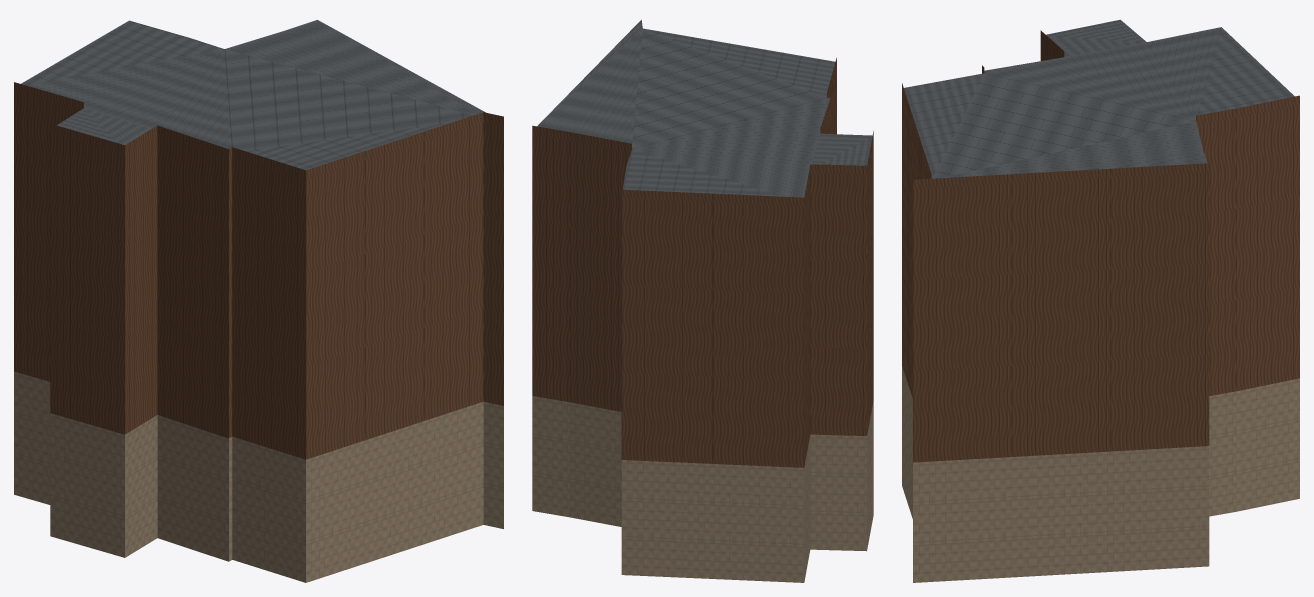
File: core_0115.gltf
3 views of the same model, side by side, from view 1: azimuth 30°, elevation 25°; view 2: azimuth 150°, elevation 25°; view 3: azimuth 270°, elevation 25° (orthographic). The views are drawn at different scales.
Parts seen in each view (by area): view 1: core_0115; view 2: core_0115; view 3: core_0115.
Part boxes in pixels (box(x1,y1,x2,y2)): core_0115: box(14, 20, 503, 582); core_0115: box(532, 20, 873, 582); core_0115: box(902, 19, 1299, 582).
Size of the model in its own units: 15.05 by 17.08 by 15.28.
3 materials, 3 textured.
